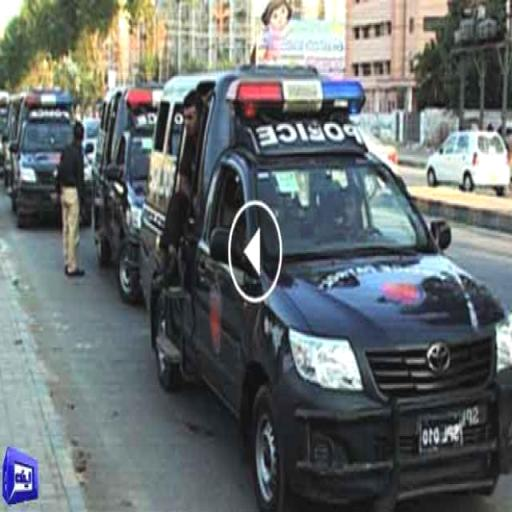Ambulance: (137, 53, 509, 492)
